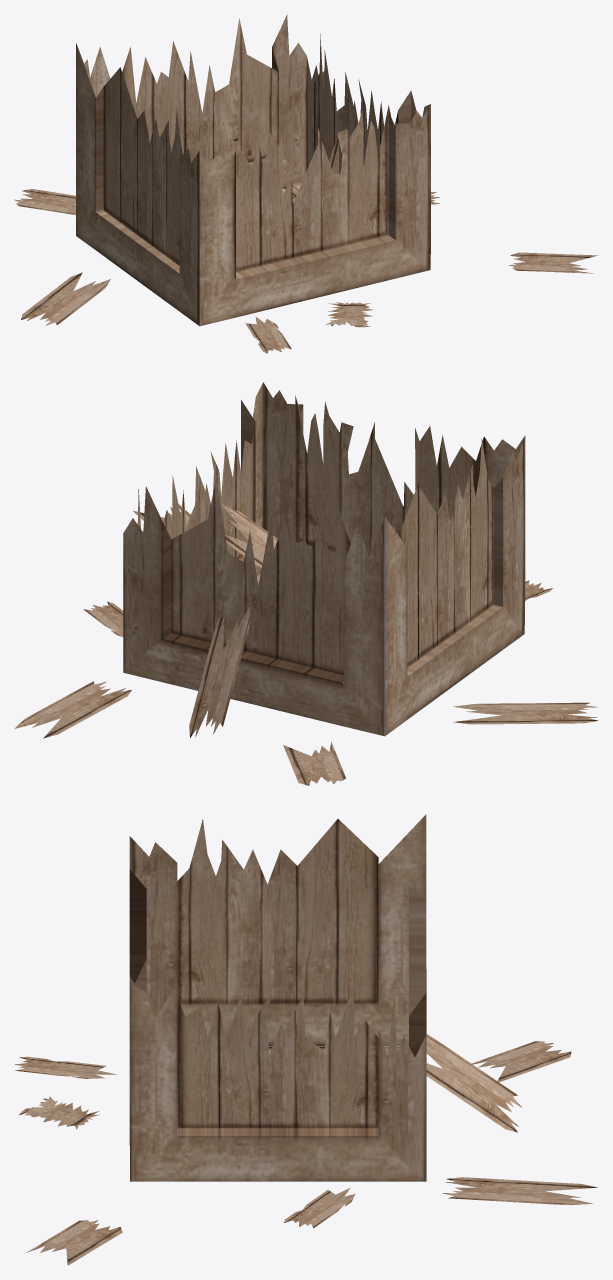
File: brokenbox.fbx
The picture shows the model from 3 angles, top to bottom: view 1: azimuth 30°, elevation 25°; view 2: azimuth 150°, elevation 25°; view 3: azimuth 270°, elevation 25°; orthographic projection. The views are drawn at different scales.
Visible parts, largest first — view 1: Crate:pCube1, Crate:pPlane6, Crate:pPlane8, Crate:pPlane1, Crate:pPlane3, Crate:pPlane4; view 2: Crate:pCube1, Crate:pPlane10, Crate:pPlane6, Crate:pPlane9, Crate:pPlane1, Crate:pPlane2, Crate:pPlane7; view 3: Crate:pCube1, Crate:pPlane10, Crate:pPlane9, Crate:pPlane1, Crate:pPlane8, Crate:pPlane3, Crate:pPlane7, Crate:pPlane4.
Boxes of the visible parts, bbox=[...] form: Crate:pCube1: bbox=[76, 14, 430, 326]; Crate:pPlane6: bbox=[21, 272, 110, 325]; Crate:pPlane8: bbox=[508, 252, 598, 273]; Crate:pPlane1: bbox=[14, 189, 75, 214]; Crate:pPlane3: bbox=[245, 317, 291, 353]; Crate:pPlane4: bbox=[326, 302, 372, 327]; Crate:pCube1: bbox=[123, 382, 525, 736]; Crate:pPlane10: bbox=[189, 607, 250, 737]; Crate:pPlane6: bbox=[453, 702, 597, 724]; Crate:pPlane9: bbox=[14, 681, 131, 738]; Crate:pPlane1: bbox=[283, 742, 345, 785]; Crate:pPlane2: bbox=[221, 504, 277, 568]; Crate:pPlane7: bbox=[83, 601, 123, 637]; Crate:pCube1: bbox=[129, 814, 426, 1181]; Crate:pPlane10: bbox=[407, 1026, 521, 1132]; Crate:pPlane9: bbox=[442, 1177, 597, 1205]; Crate:pPlane1: bbox=[471, 1041, 571, 1082]; Crate:pPlane8: bbox=[26, 1220, 122, 1265]; Crate:pPlane3: bbox=[15, 1056, 117, 1078]; Crate:pPlane7: bbox=[284, 1188, 355, 1228]; Crate:pPlane4: bbox=[19, 1097, 99, 1129].
Size of the model in its own units: 14.34 by 5.55 by 12.24.
